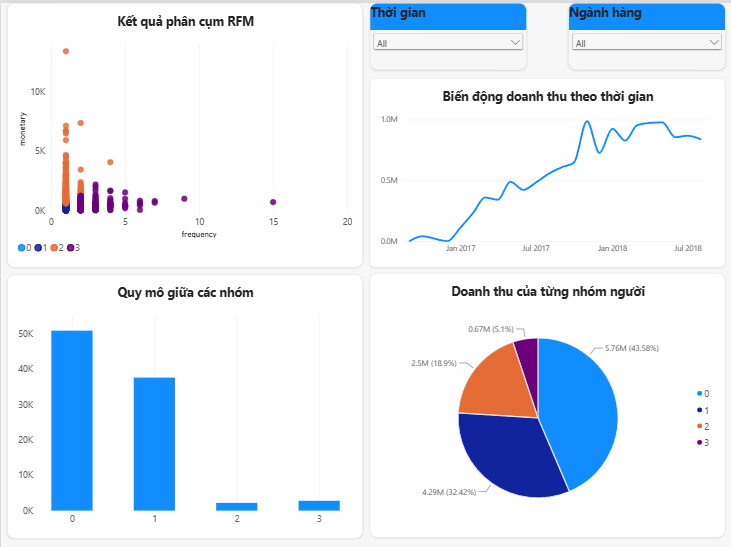

This screenshot's page, from the dashboard's own definition file:
{"tool":"powerbi","page":{"name":"Page 1","canvas":[1920,1080],"ordinal":0},"visuals":[{"type":"scatterChart","title":"Kết quả phân cụm RFM","fields":{"Series":["rfm_clusters.cluster"],"X":["rfm_clusters.frequency"],"Y":["rfm_clusters.monetary"]},"box":[10,0,569,423],"z":0},{"type":"clusteredColumnChart","title":"Quy mô giữa các nhóm","fields":{"Category":["rfm_clusters.cluster"],"Y":["CountNonNull(rfm_clusters.customer_unique_id)"]},"box":[10,433,569,423],"z":1},{"type":"pieChart","title":"Doanh thu của từng nhóm người","fields":{"Category":["rfm_clusters.cluster"],"Y":["Sum(rfm_clusters.monetary)"]},"box":[590,432.9,569,423],"z":2},{"type":"slicer","title":"Thời gian","fields":{"Values":["dim_date.date_key.Variation.Date Hierarchy.Year","dim_date.date_key.Variation.Date Hierarchy.Month"]},"box":[590,0,251.4,107.1],"z":3},{"type":"slicer","title":"Ngành hàng","fields":{"Values":["dim_products.product_category_name"]},"box":[907.1,0,251.4,107.1],"z":4},{"type":"lineChart","title":"Biến động doanh thu theo thời gian","fields":{"Category":["dim_date.date_key.Variation.Date Hierarchy.Year","dim_date.date_key.Variation.Date Hierarchy.Month"],"Y":["Sum(fact_order_items.price)"]},"box":[590,120,568.6,302.9],"z":5}]}

Visuals, with their boxes on the page's 1920x1080 design canvas (x1, y1, x2, y2). These are canvas units, not pixel positions in the 731x547 screenshot, which may show the page scaled, cropped or inside an application window:
"Kết quả phân cụm RFM" scatterChart: box=[10, 0, 579, 423]
"Quy mô giữa các nhóm" clusteredColumnChart: box=[10, 433, 579, 856]
"Doanh thu của từng nhóm người" pieChart: box=[590, 433, 1159, 856]
"Thời gian" slicer: box=[590, 0, 841, 107]
"Ngành hàng" slicer: box=[907, 0, 1158, 107]
"Biến động doanh thu theo thời gian" lineChart: box=[590, 120, 1159, 423]
